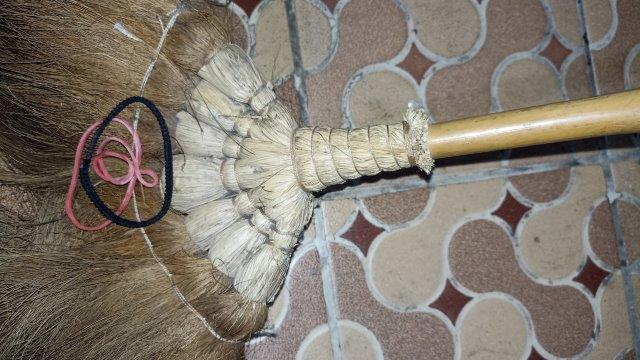karet: (65, 95, 173, 231)
